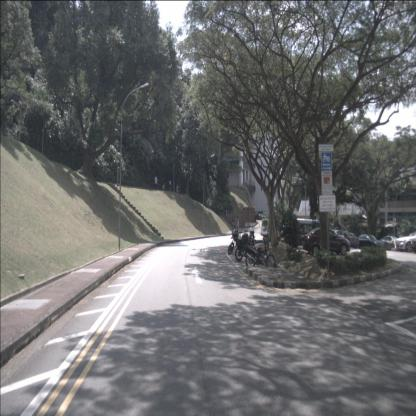human-pedestrian-adult: (154, 176, 158, 191), (225, 207, 228, 223), (168, 180, 172, 192), (162, 177, 165, 192), (236, 216, 239, 229), (234, 216, 237, 228), (178, 186, 181, 196), (228, 209, 230, 223), (232, 214, 234, 227), (176, 184, 178, 194)
vehicle-car: (302, 227, 350, 257), (394, 231, 416, 253), (356, 234, 384, 250), (322, 230, 344, 248), (379, 235, 402, 251), (338, 231, 359, 248)
vehicle-motorcycle: (244, 236, 276, 270), (228, 225, 256, 255), (235, 233, 260, 261)
